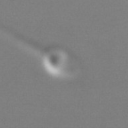normal: (1, 27, 44, 58)
